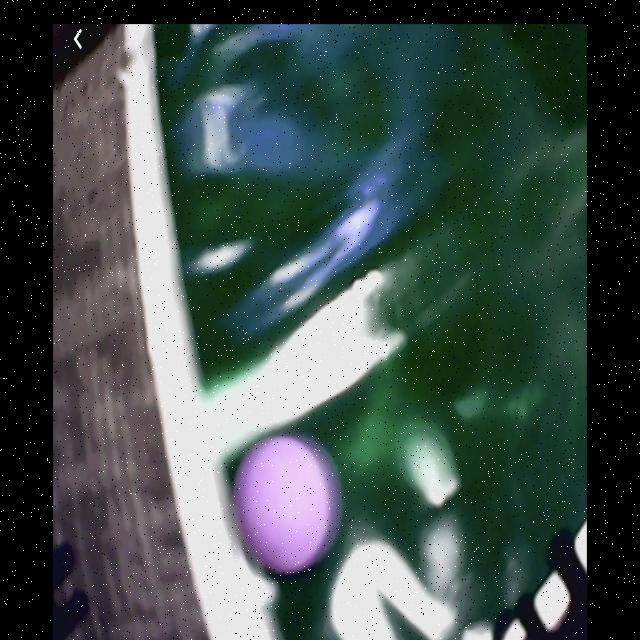ball: (233, 440, 334, 570)
